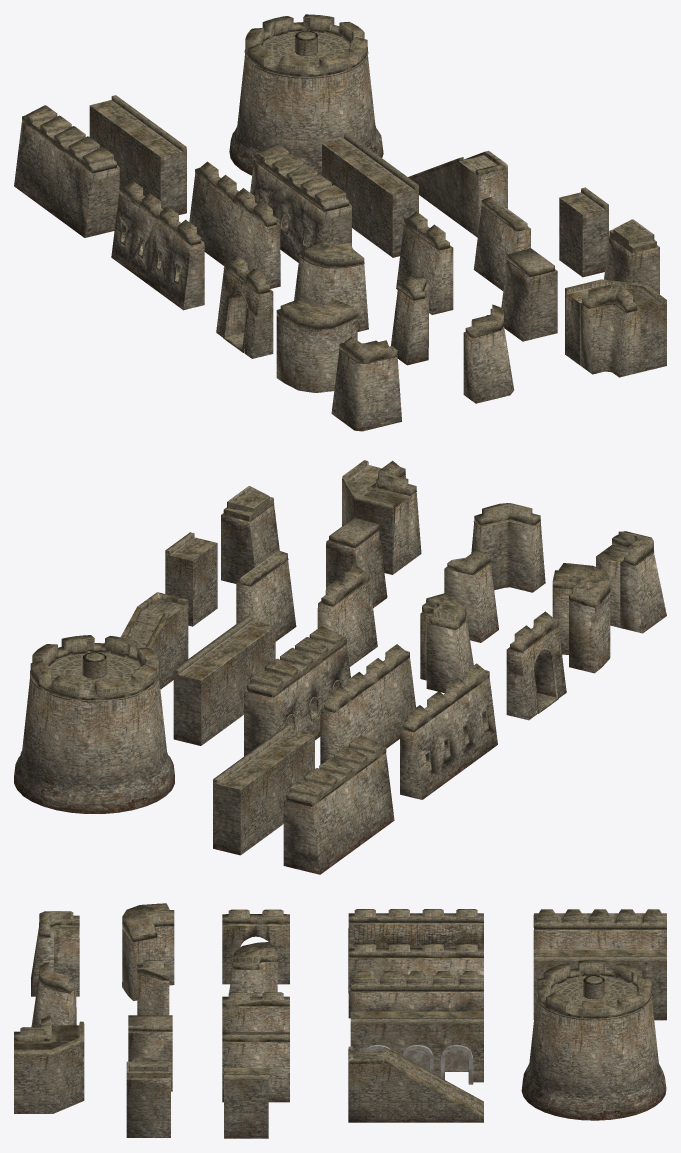
3 renders of one model, top to bottom at view 1: azimuth 30°, elevation 25°; view 2: azimuth 150°, elevation 25°; view 3: azimuth 270°, elevation 25°, orthographic. The views are drawn at different scales.
Parts seen in each view (by area): view 1: modular_fort_01_tower_round, modular_fort_01_wall_thick_straight_01, modular_fort_01_wall_thin_straight_02, modular_fort_01_wall_thick_straight_02, modular_fort_01_wall_thin_straight_01, modular_fort_01_wall_walkway_straight_01, modular_fort_01_wall_walkway_straight_02, modular_fort_01_wall_thick_corner_02, modular_fort_01_wall_thin_corner_02, modular_fort_01_wall_thin_corner_01, modular_fort_01_wall_stairs_straight_01, modular_fort_01_wall_thin_gate_01 (+9 smaller); view 2: modular_fort_01_tower_round, modular_fort_01_wall_thick_straight_01, modular_fort_01_wall_thin_straight_02, modular_fort_01_wall_walkway_straight_01, modular_fort_01_wall_walkway_straight_02, modular_fort_01_wall_thick_straight_02, modular_fort_01_wall_thin_straight_01, modular_fort_01_wall_thick_corner_02, modular_fort_01_wall_thin_corner_03, modular_fort_01_wall_thin_gate_01, modular_fort_01_wall_thick_corner_01, modular_fort_01_wall_thick_end_02 (+10 smaller); view 3: modular_fort_01_tower_round, modular_fort_01_wall_stairs_straight_01, modular_fort_01_wall_walkway_straight_01, modular_fort_01_wall_walkway_corner_01, modular_fort_01_wall_thick_straight_01, modular_fort_01_wall_thick_straight_02, modular_fort_01_wall_thin_straight_02, modular_fort_01_wall_thin_straight_01, modular_fort_01_wall_thick_corner_02, modular_fort_01_wall_thick_end_02, modular_fort_01_wall_walkway_straight_02, modular_fort_01_wall_thin_straight_03 (+10 smaller).
Boxes of the visible parts, box(x1,y1,x2,y2) form: modular_fort_01_tower_round: box(229, 14, 383, 175); modular_fort_01_wall_thick_straight_01: box(14, 105, 119, 237); modular_fort_01_wall_thin_straight_02: box(111, 180, 204, 310); modular_fort_01_wall_thick_straight_02: box(250, 143, 351, 262); modular_fort_01_wall_thin_straight_01: box(189, 161, 280, 288); modular_fort_01_wall_walkway_straight_01: box(322, 133, 418, 257); modular_fort_01_wall_walkway_straight_02: box(89, 95, 186, 214); modular_fort_01_wall_thick_corner_02: box(276, 298, 357, 392); modular_fort_01_wall_thin_corner_02: box(331, 336, 401, 431); modular_fort_01_wall_thin_corner_01: box(580, 284, 640, 377); modular_fort_01_wall_stairs_straight_01: box(408, 150, 507, 237); modular_fort_01_wall_thin_gate_01: box(216, 255, 273, 358); modular_fort_01_tower_round: box(14, 635, 174, 813); modular_fort_01_wall_thick_straight_01: box(283, 735, 394, 874); modular_fort_01_wall_thin_straight_02: box(400, 663, 497, 799); modular_fort_01_wall_walkway_straight_01: box(173, 615, 275, 745); modular_fort_01_wall_walkway_straight_02: box(213, 724, 314, 855); modular_fort_01_wall_thick_straight_02: box(244, 626, 350, 756); modular_fort_01_wall_thin_straight_01: box(320, 644, 415, 764); modular_fort_01_wall_thick_corner_02: box(552, 563, 610, 673); modular_fort_01_wall_thin_corner_03: box(471, 503, 545, 592); modular_fort_01_wall_thin_gate_01: box(506, 611, 566, 720); modular_fort_01_wall_thick_corner_01: box(420, 593, 473, 693); modular_fort_01_wall_thick_end_02: box(221, 486, 279, 583); modular_fort_01_tower_round: box(521, 960, 666, 1120); modular_fort_01_wall_stairs_straight_01: box(348, 1046, 483, 1122); modular_fort_01_wall_walkway_straight_01: box(350, 1011, 483, 1084); modular_fort_01_wall_walkway_corner_01: box(14, 1021, 84, 1113); modular_fort_01_wall_thick_straight_01: box(533, 909, 666, 949); modular_fort_01_wall_thick_straight_02: box(350, 971, 483, 1011); modular_fort_01_wall_thin_straight_02: box(348, 909, 483, 956); modular_fort_01_wall_thin_straight_01: box(348, 943, 483, 1018); modular_fort_01_wall_thick_corner_02: box(122, 903, 174, 1000); modular_fort_01_wall_thick_end_02: box(126, 1057, 170, 1137); modular_fort_01_wall_walkway_straight_02: box(533, 949, 666, 1020); modular_fort_01_wall_thin_straight_03: box(222, 1032, 289, 1102).
Bounding box in the file's own units: 42.67 × 13.58 × 71.38.
3 materials, 3 textured.
